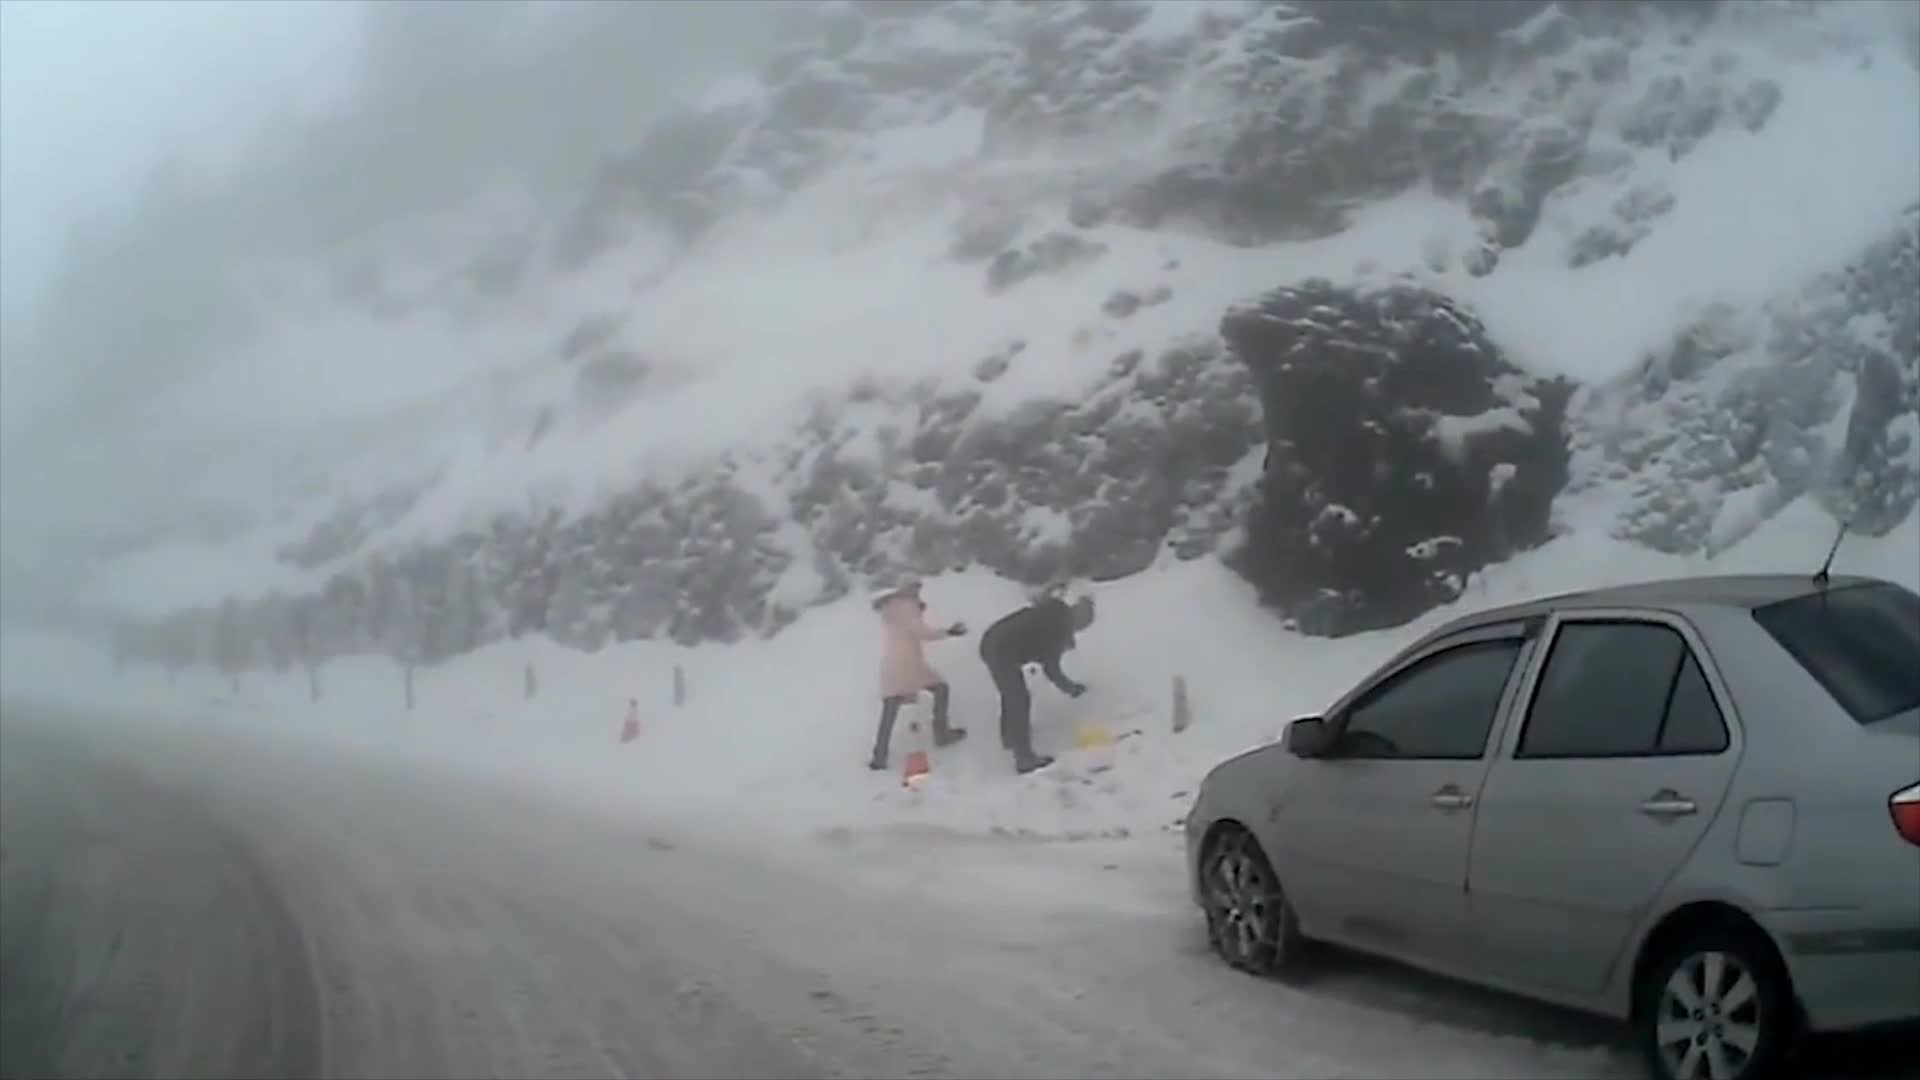pedestrian: (862, 570, 975, 769), (979, 590, 1095, 773)
vehicle: (1186, 568, 1920, 1080)
